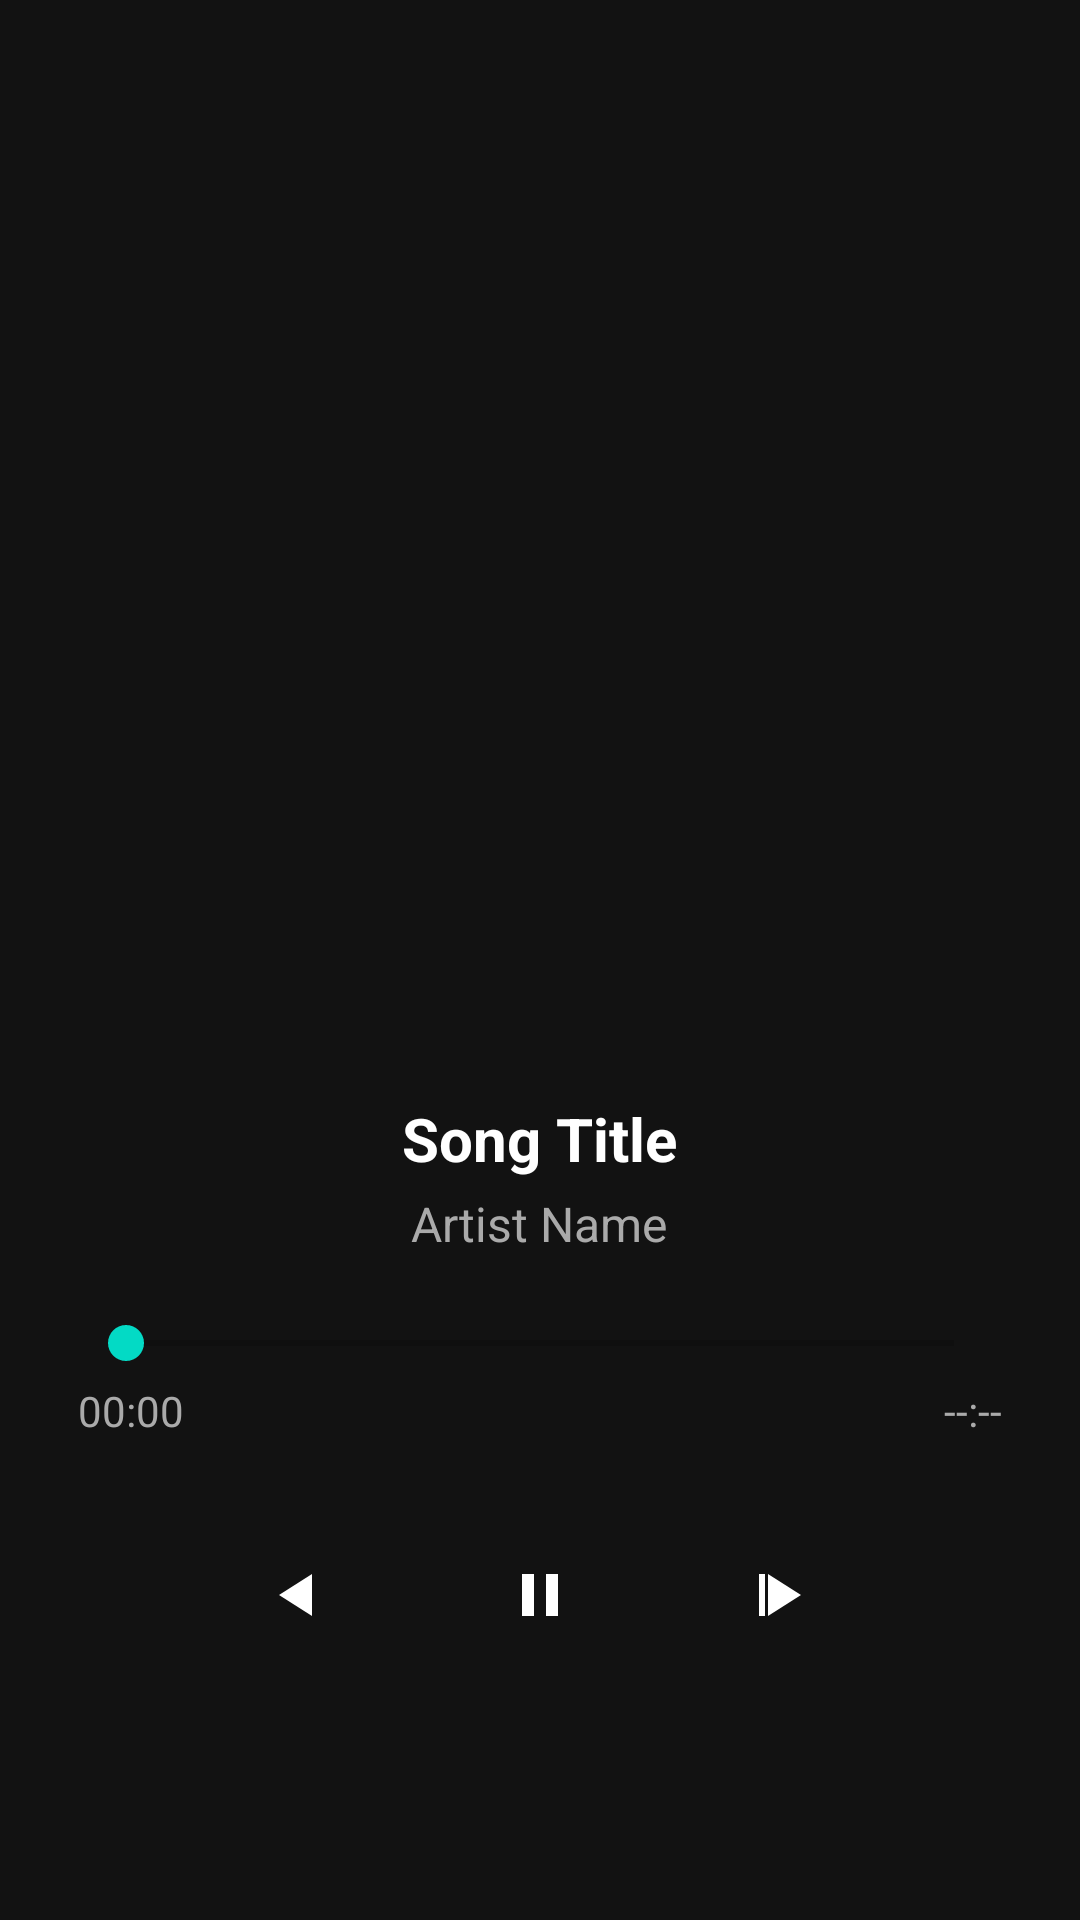

Icon bounding boxes for this 1080w x 1920h phone screenshot, format (x1, y1, x2, y2):
Next: (759, 1574, 801, 1616)
pause: (522, 1574, 558, 1616)
Previous: (279, 1574, 312, 1616)
